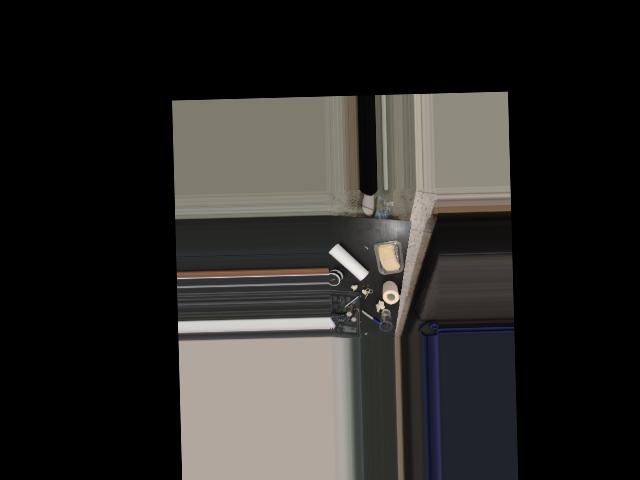cheese: (372, 236, 405, 275)
